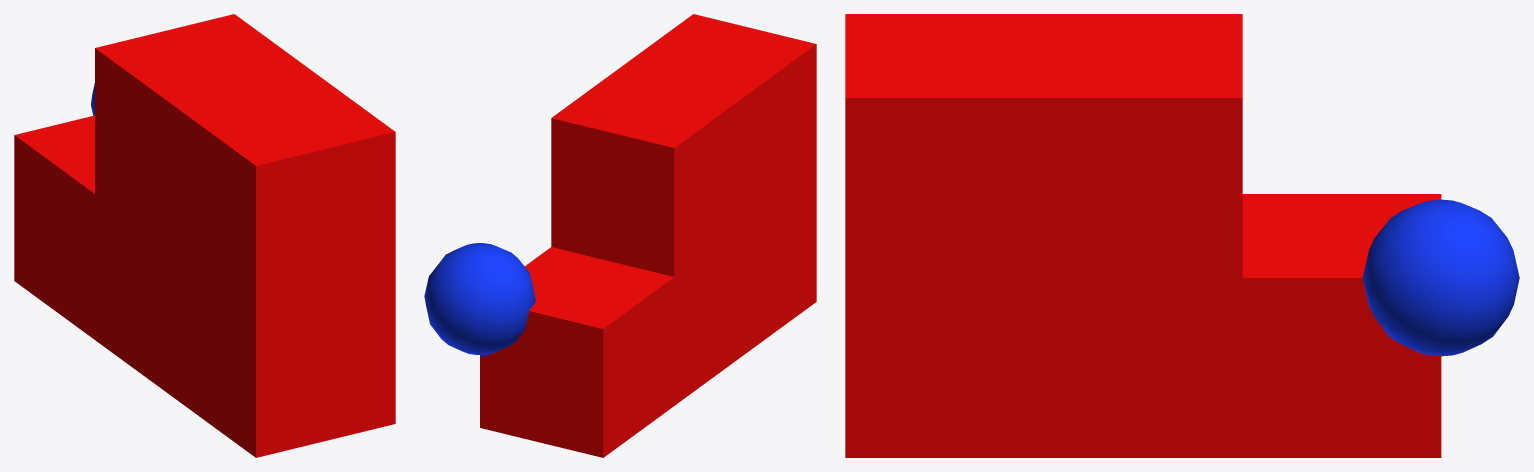
The picture shows the model from 3 angles, left to right: view 1: azimuth 30°, elevation 25°; view 2: azimuth 150°, elevation 25°; view 3: azimuth 270°, elevation 25°; orthographic projection. The views are drawn at different scales.
Parts seen in each view (by area): view 1: Object_1, Object_3; view 2: Object_1, Object_3, Object_2; view 3: Object_1, Object_3, Object_2.
Boxes of the visible parts, x1=… form: Object_1: x1=95, y1=14, x2=395, y2=457; Object_3: x1=14, y1=115, x2=94, y2=339; Object_1: x1=551, y1=14, x2=816, y2=405; Object_3: x1=480, y1=247, x2=674, y2=457; Object_2: x1=424, y1=243, x2=535, y2=354; Object_1: x1=845, y1=14, x2=1242, y2=457; Object_3: x1=1242, y1=194, x2=1441, y2=457; Object_2: x1=1362, y1=199, x2=1519, y2=356.
Size of the model in its own units: 1.4 by 3.4 by 2.
